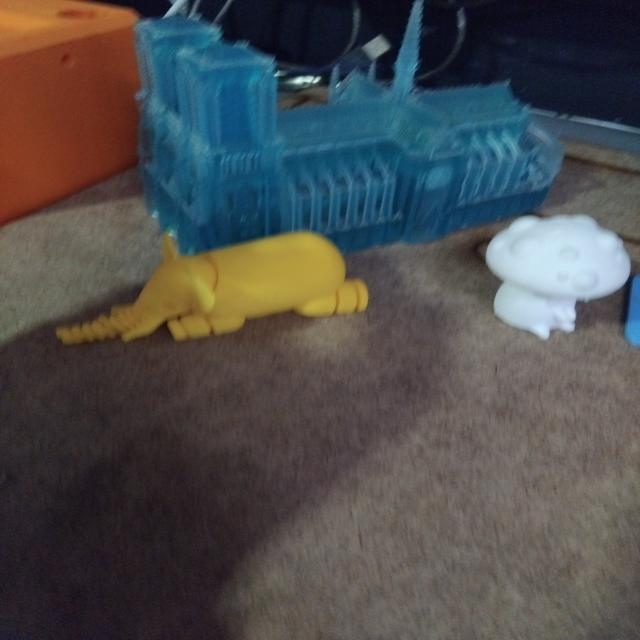Hongo: (474, 204, 633, 347)
